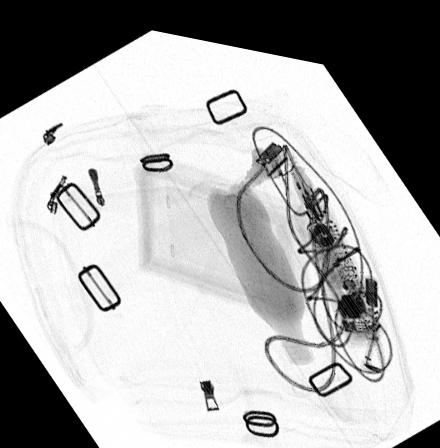Lighter: (264, 134, 309, 200)
